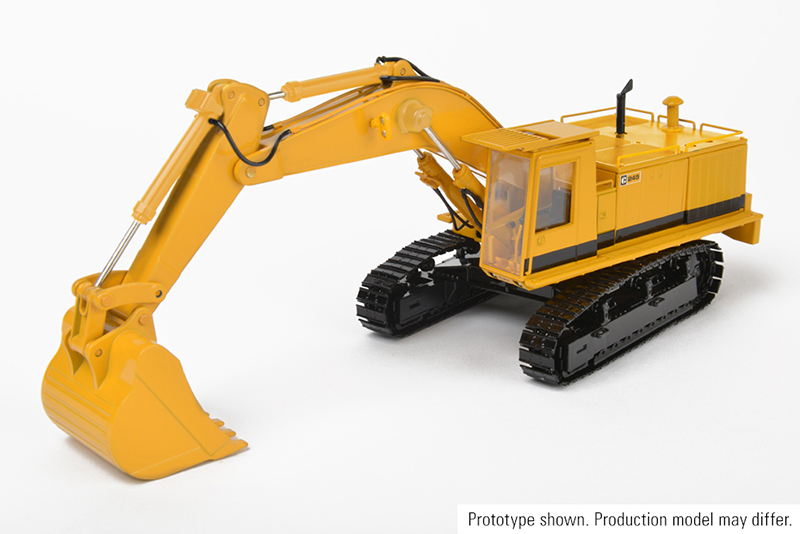backhoe: (34, 32, 771, 483)
